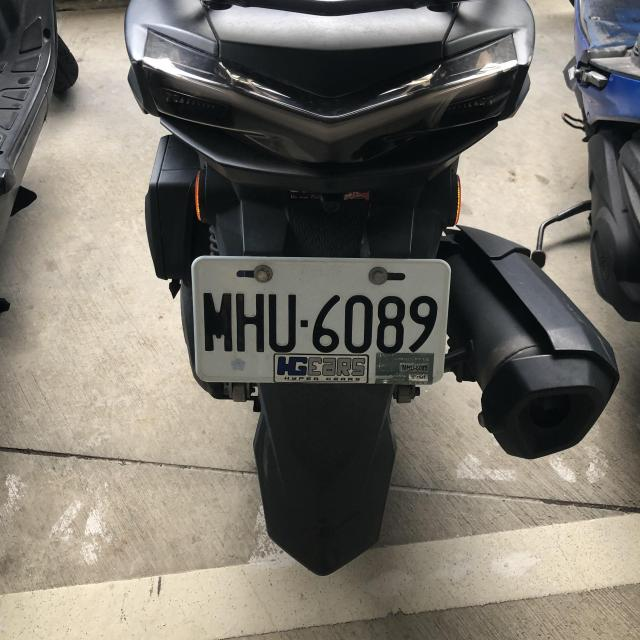W: (188, 255, 449, 383)
